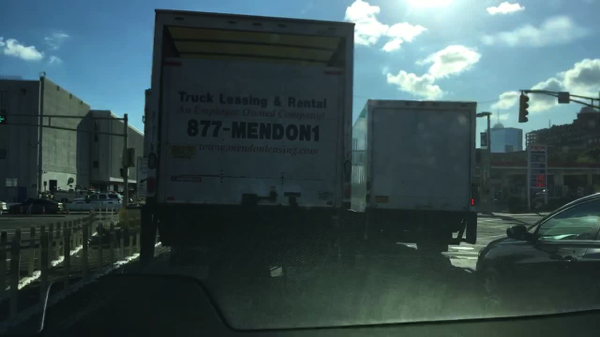car: (473, 189, 598, 300), (8, 198, 65, 216), (71, 192, 123, 211), (125, 201, 144, 209), (533, 190, 549, 196), (122, 198, 135, 203), (46, 192, 54, 198), (38, 192, 44, 197)
traffic light: (518, 93, 528, 123), (0, 112, 9, 125)
traffic sign: (527, 151, 548, 190), (557, 91, 570, 104), (479, 132, 487, 147)
truck: (142, 8, 353, 272), (353, 100, 477, 256)
